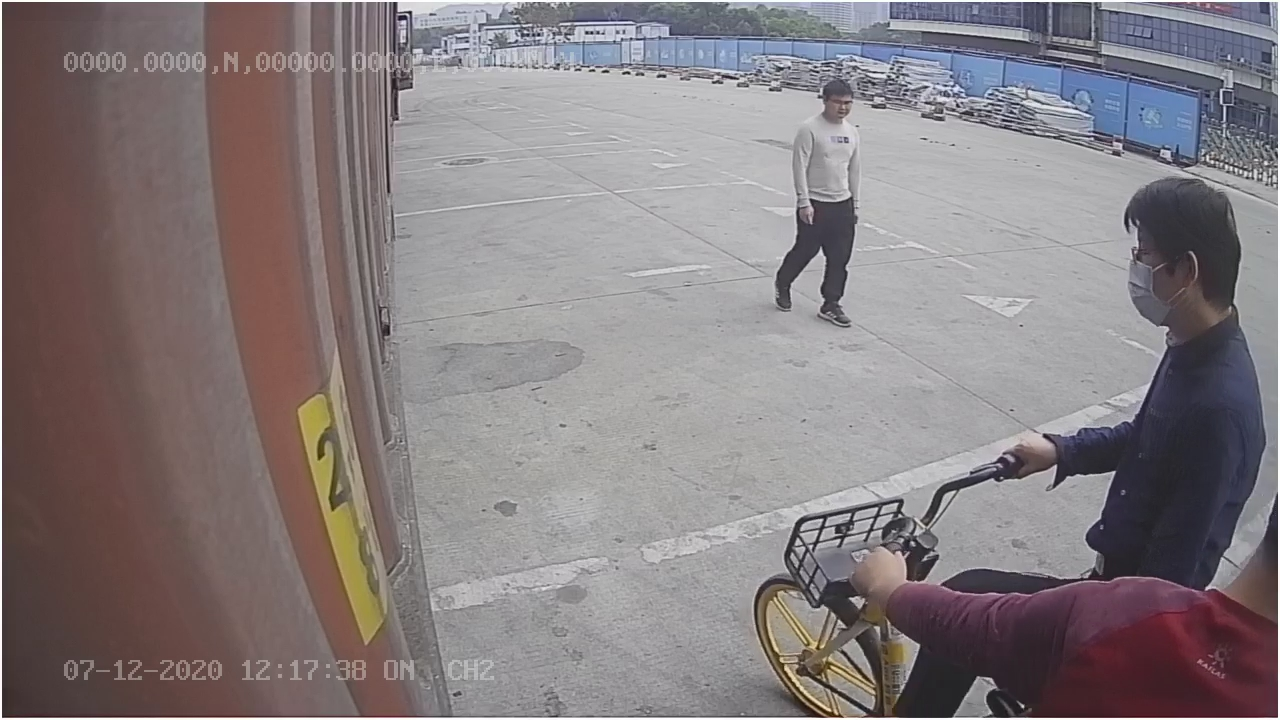person: (763, 67, 865, 328)
